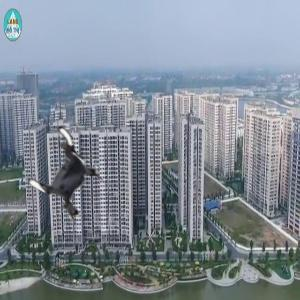drone: (26, 133, 110, 217)
